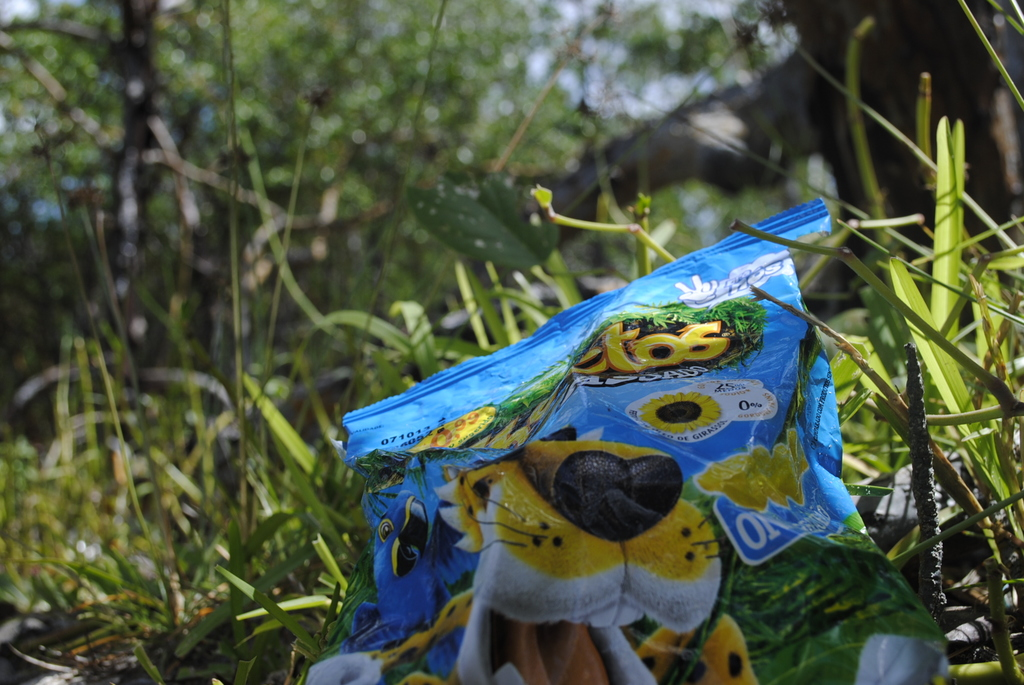Animal: (308, 427, 756, 682)
